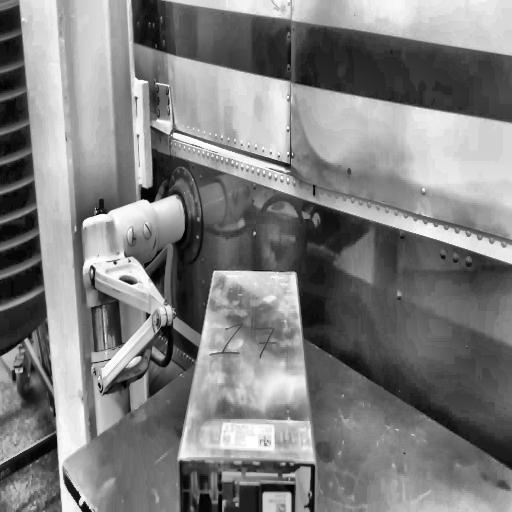battery_module: (177, 269, 317, 512)
